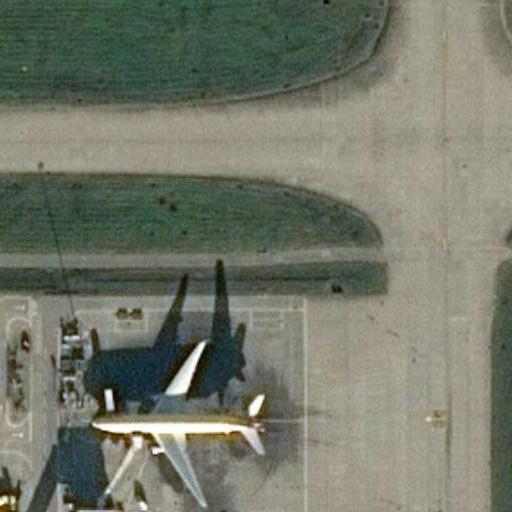Aircraft: (87, 337, 270, 507), (84, 339, 265, 503)
